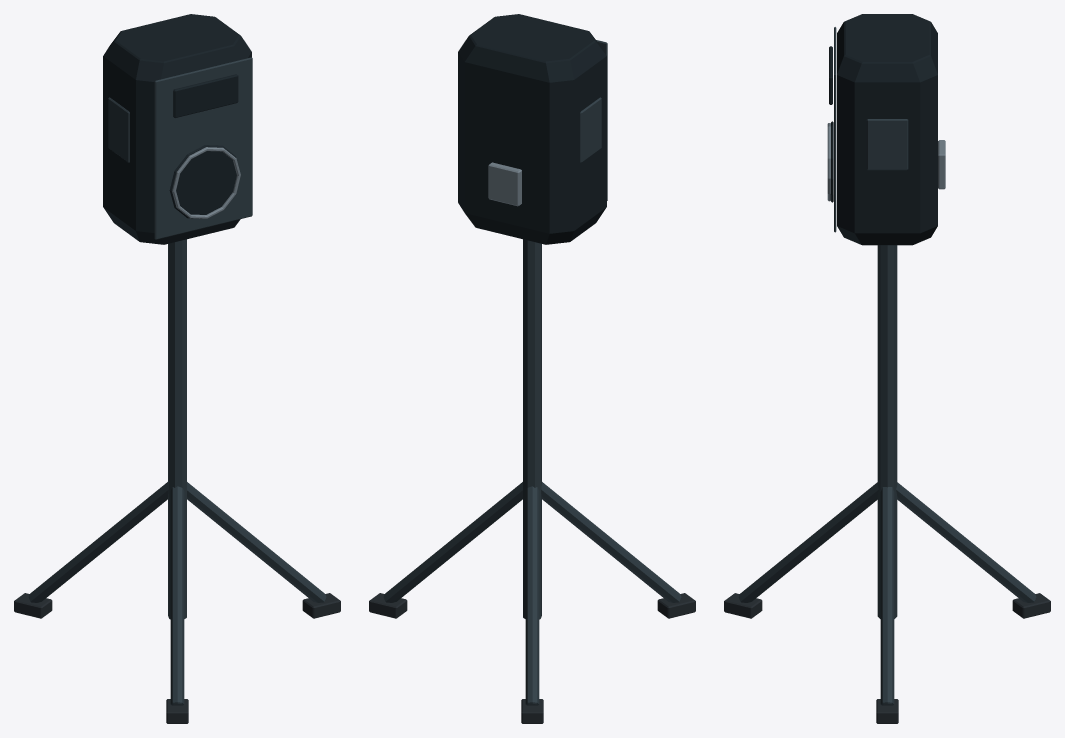
Rendered from b20_pa_loudspeaker_on_tripod.glb.
3 views of the same model, side by side, from view 1: azimuth 30°, elevation 25°; view 2: azimuth 150°, elevation 25°; view 3: azimuth 270°, elevation 25° (orthographic).
Parts seen in each view (by area): view 1: b20_pa_loudspeaker_on_tripod; view 2: b20_pa_loudspeaker_on_tripod; view 3: b20_pa_loudspeaker_on_tripod.
Part boxes in pixels (x1,y1,x2,y2): b20_pa_loudspeaker_on_tripod: (14,14,340,723); b20_pa_loudspeaker_on_tripod: (369,14,695,723); b20_pa_loudspeaker_on_tripod: (724,14,1050,723).
Size of the model in its own units: 0.953 by 2.26 by 1.1.
